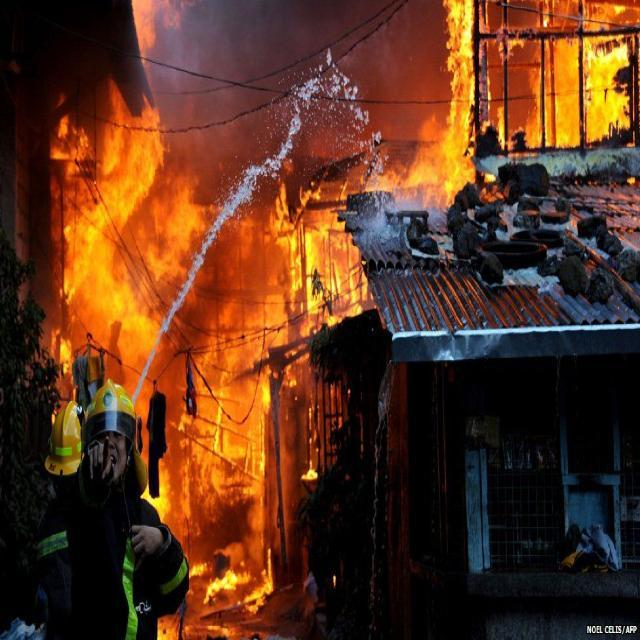Fire: (44, 79, 205, 373), (210, 346, 282, 609), (545, 3, 640, 152), (271, 184, 364, 324), (444, 3, 482, 198)
Smoke: (178, 0, 442, 146)
